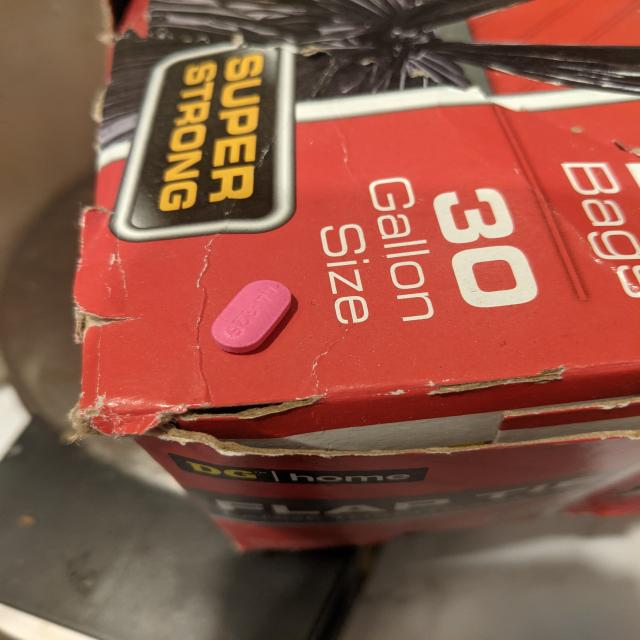non-organic waste: (210, 279, 292, 355)
